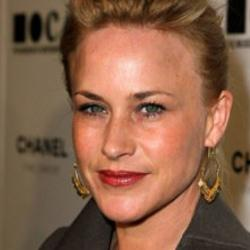face: (40, 1, 239, 228)
